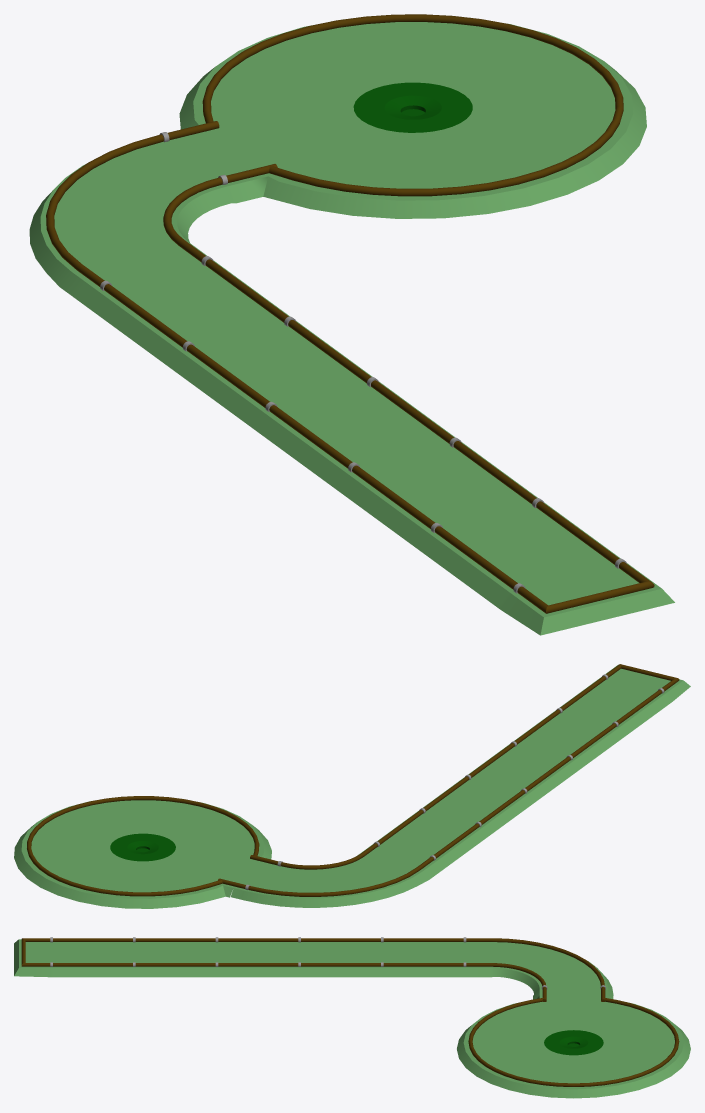
Rendered from Hole03.FBX.
3 views of the same model, one above another, from view 1: azimuth 30°, elevation 25°; view 2: azimuth 150°, elevation 25°; view 3: azimuth 270°, elevation 25° (orthographic). The views are drawn at different scales.
Visible parts, largest first — view 1: Course03; view 2: Course03; view 3: Course03.
Part boxes in pixels (x1=…): Course03: x1=29, y1=14, x2=674, y2=635; Course03: x1=14, y1=664, x2=690, y2=908; Course03: x1=14, y1=937, x2=690, y2=1098.
Bounding box in the file's own units: 2678 × 78.27 × 4913.
